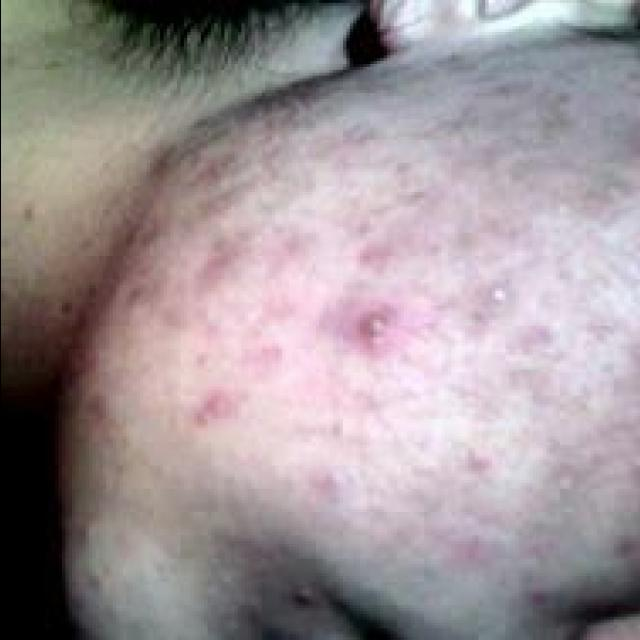Acne: (198, 230, 256, 290), (257, 224, 322, 276), (346, 300, 406, 356), (188, 389, 235, 428), (355, 244, 401, 278), (454, 534, 496, 566), (249, 340, 289, 371), (478, 278, 516, 310), (289, 582, 317, 605)
